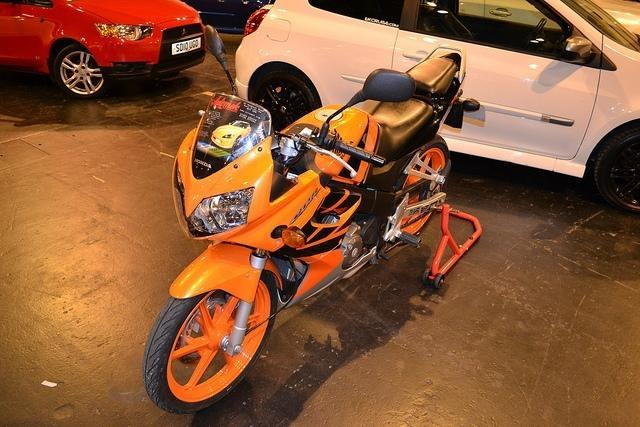car: (235, 0, 640, 214), (1, 2, 207, 98), (181, 0, 276, 33)
motorcycle: (146, 25, 475, 400)
